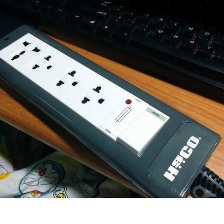three_eye_plug: (0, 22, 223, 200)
